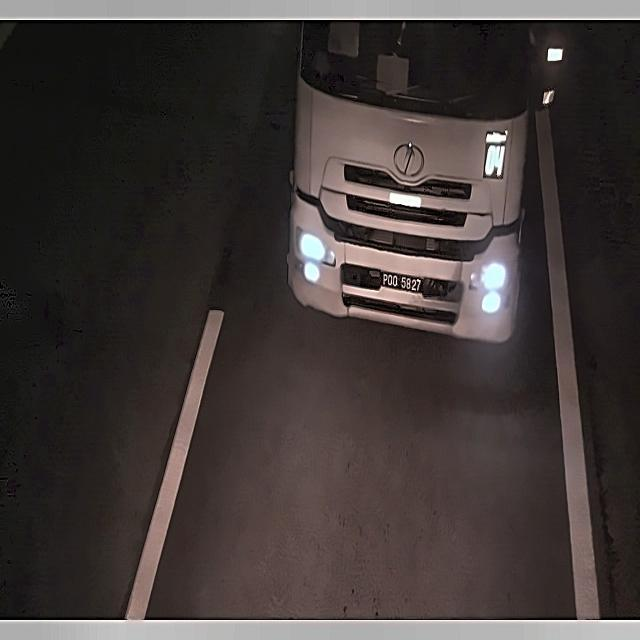car: (377, 262, 424, 299)
